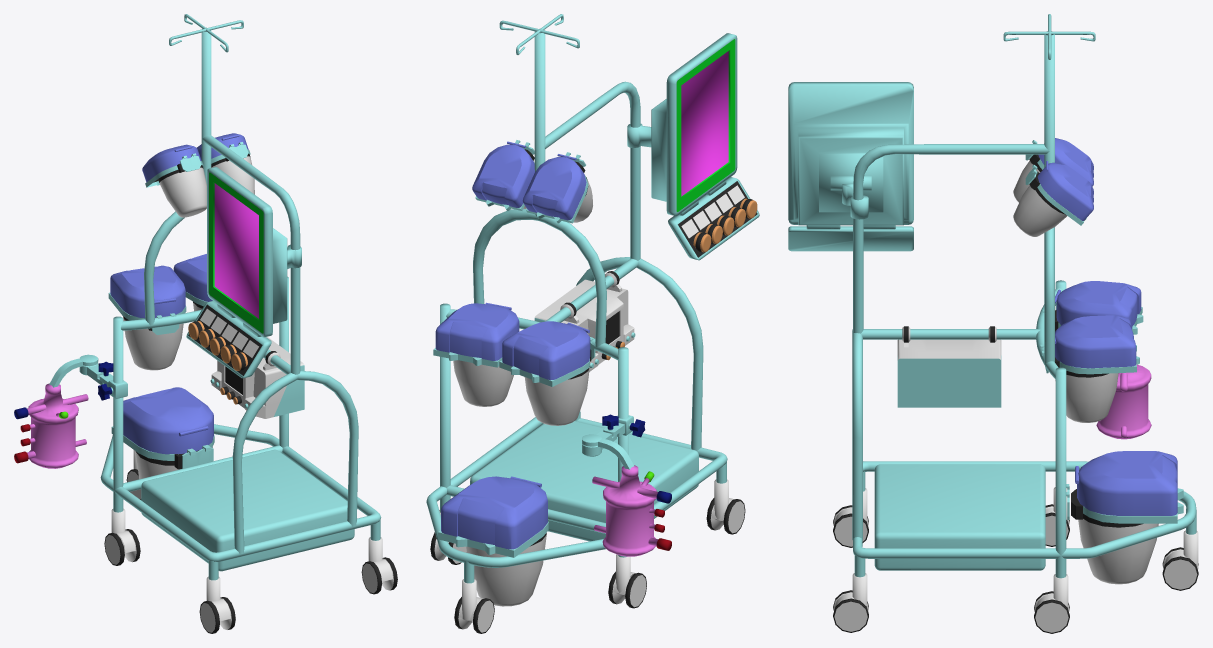
Rendered from quantum.fbx.
3 renders of one model, left to right at view 1: azimuth 30°, elevation 25°; view 2: azimuth 150°, elevation 25°; view 3: azimuth 270°, elevation 25°, orthographic. The views are drawn at different scales.
Visible parts, largest first — view 1: Frame, Base, TouchScreen, RollerPump, RollerPump.001, Oxygenator, RollerPump.002, VentSystem, Knobs, RollerPump.004, RollerPump.003, ReservoirStand (+1 smaller); view 2: Frame, TouchScreen, Base, RollerPump, RollerPump.001, RollerPump.003, Oxygenator, RollerPump.002, RollerPump.004, VentSystem, Knobs, ReservoirStand (+1 smaller); view 3: Frame, TouchScreen, Base, RollerPump, VentSystem, RollerPump.003, RollerPump.004, RollerPump.001, Knobs, Oxygenator, RollerPump.002.
Boxes of the visible parts, <box> form: Frame: <box>100,27,397,633</box>; Base: <box>141,449,354,571</box>; TouchScreen: <box>207,167,301,337</box>; RollerPump: <box>111,387,214,479</box>; RollerPump.001: <box>108,265,186,370</box>; Oxygenator: <box>14,383,88,468</box>; RollerPump.002: <box>142,144,206,217</box>; VentSystem: <box>210,337,304,418</box>; Knobs: <box>186,301,271,378</box>; RollerPump.004: <box>197,133,254,194</box>; RollerPump.003: <box>173,254,212,311</box>; ReservoirStand: <box>98,361,127,400</box>; Frame: <box>426,30,745,633</box>; TouchScreen: <box>627,33,737,216</box>; Base: <box>470,421,698,541</box>; RollerPump: <box>438,476,548,606</box>; RollerPump.001: <box>499,321,595,425</box>; RollerPump.003: <box>433,302,519,406</box>; Oxygenator: <box>592,465,671,556</box>; RollerPump.002: <box>522,152,592,223</box>; RollerPump.004: <box>472,140,534,210</box>; VentSystem: <box>534,271,635,371</box>; Knobs: <box>668,177,759,260</box>; ReservoirStand: <box>602,414,645,437</box>; Frame: <box>833,31,1198,633</box>; TouchScreen: <box>788,82,913,225</box>; Base: <box>874,464,1045,570</box>; RollerPump: <box>1066,451,1183,584</box>; VentSystem: <box>897,326,1001,407</box>; RollerPump.003: <box>1040,315,1139,422</box>; RollerPump.004: <box>1013,161,1093,236</box>; RollerPump.001: <box>1043,281,1143,334</box>; Knobs: <box>788,225,913,251</box>; Oxygenator: <box>1096,364,1151,439</box>; RollerPump.002: <box>1013,138,1093,202</box>.
Size of the model in its own units: 88.65 by 176 by 118.
